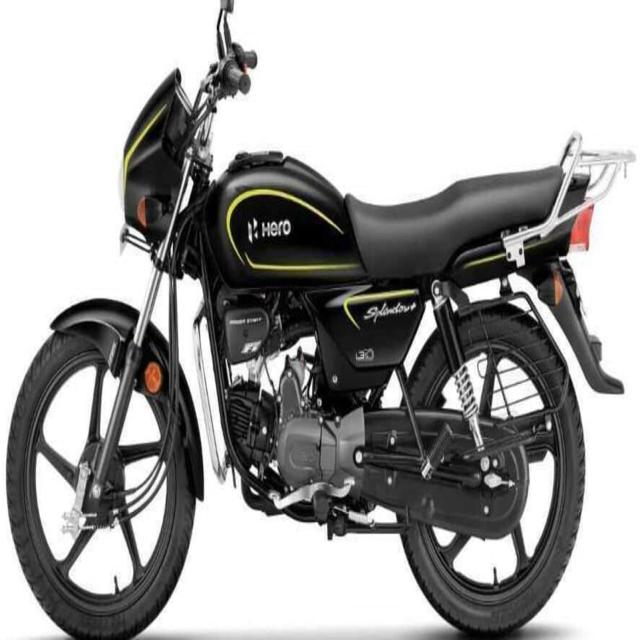bike: (21, 0, 634, 631)
